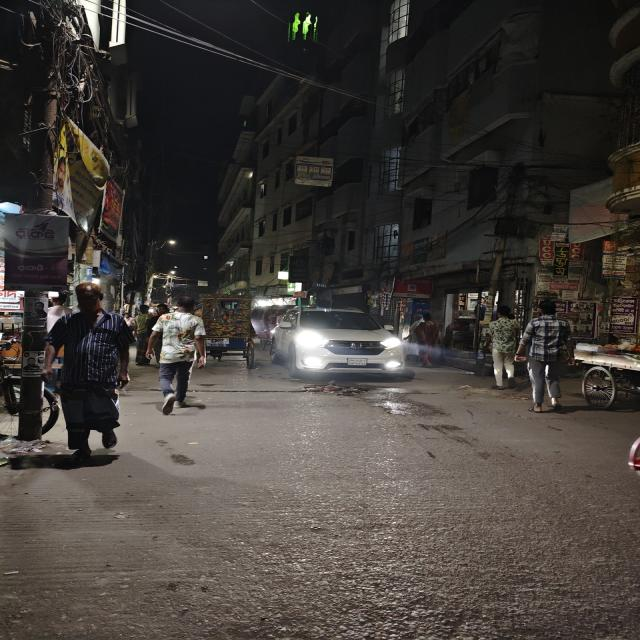car: (268, 304, 410, 383)
pedestrian: (39, 286, 138, 458), (145, 295, 205, 414), (514, 306, 572, 414), (482, 307, 520, 389)
rickshaw: (198, 293, 262, 371)
